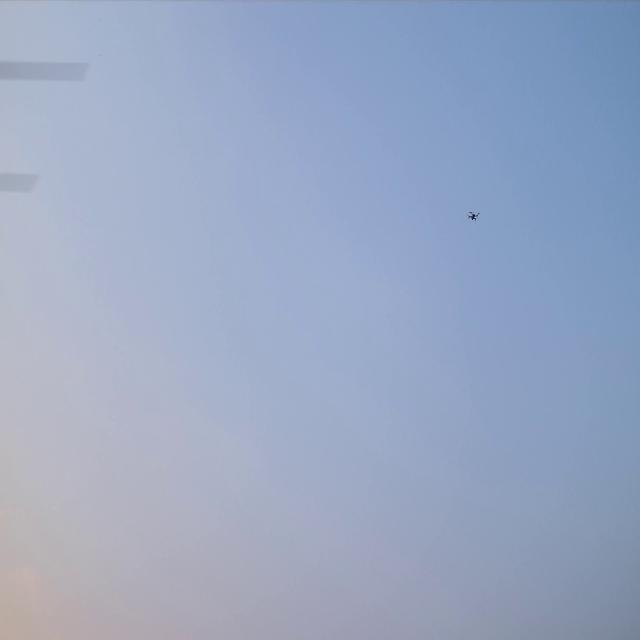UAV: (468, 212, 480, 221)
